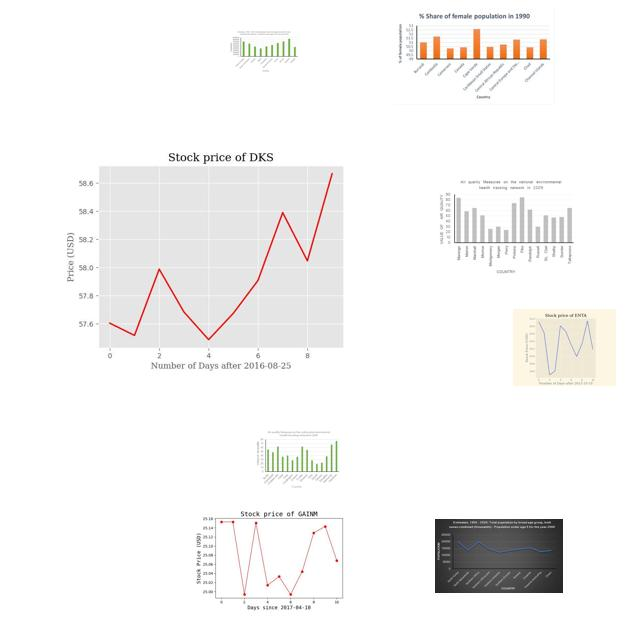Graph: (59, 137, 375, 374), (195, 496, 359, 619), (395, 9, 555, 105), (436, 176, 577, 277), (435, 519, 563, 593), (513, 309, 616, 386), (255, 430, 341, 490), (229, 30, 299, 72)
